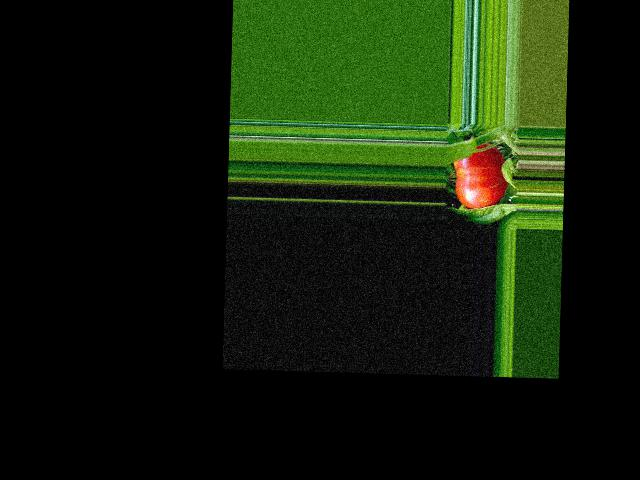tomato: (452, 141, 508, 210)
